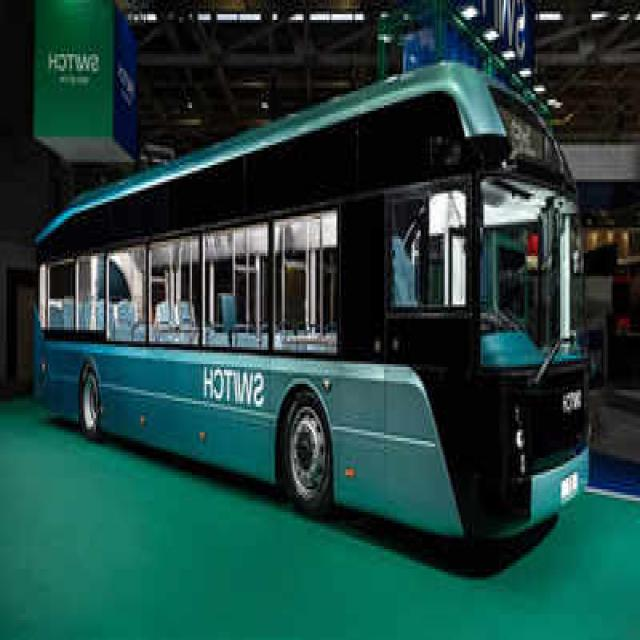bus: (36, 62, 588, 539)
